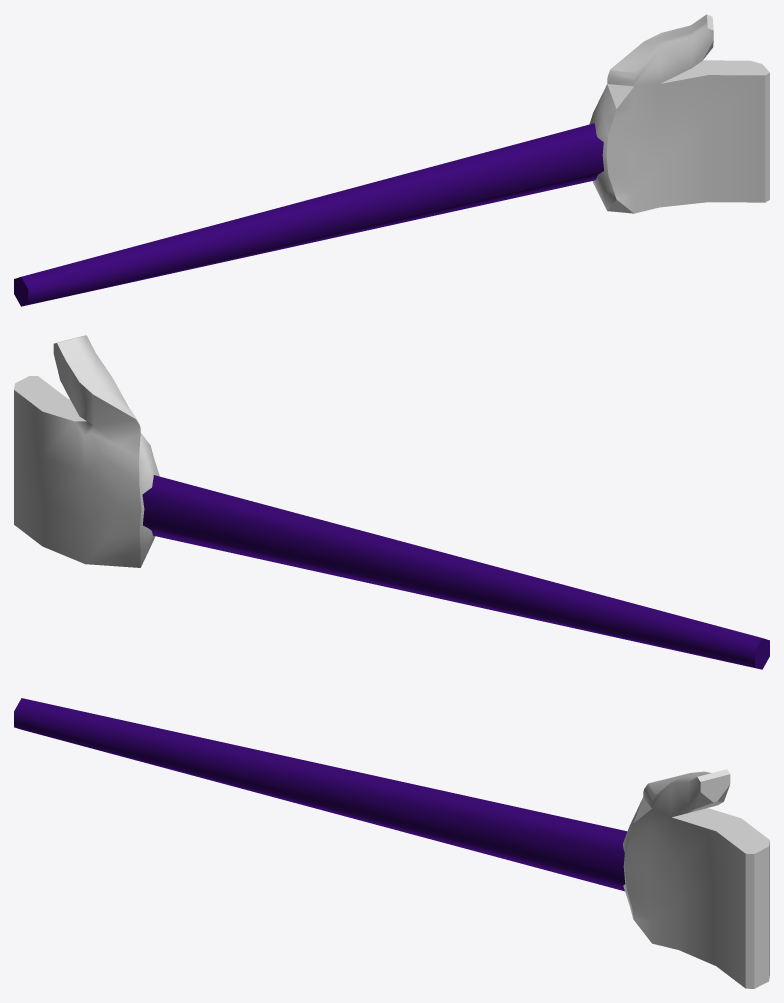
The model's file is Char_Hand_Purple.FBX.
3 views of the same model, one above another, from view 1: azimuth 30°, elevation 25°; view 2: azimuth 150°, elevation 25°; view 3: azimuth 330°, elevation 25° (orthographic). The views are drawn at different scales.
Visible parts, largest first — view 1: HandPurple; view 2: HandPurple; view 3: HandPurple.
Boxes of the visible parts, x1=… form: HandPurple: x1=14, y1=14, x2=769, y2=306; HandPurple: x1=14, y1=335, x2=769, y2=669; HandPurple: x1=14, y1=698, x2=769, y2=988.
Bounding box in the file's own units: 23.19 × 5.6 × 2.24.
